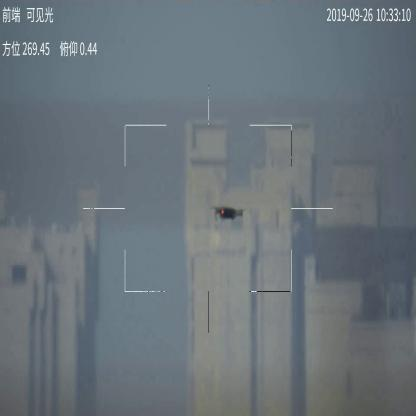uav: (208, 205, 248, 222)
